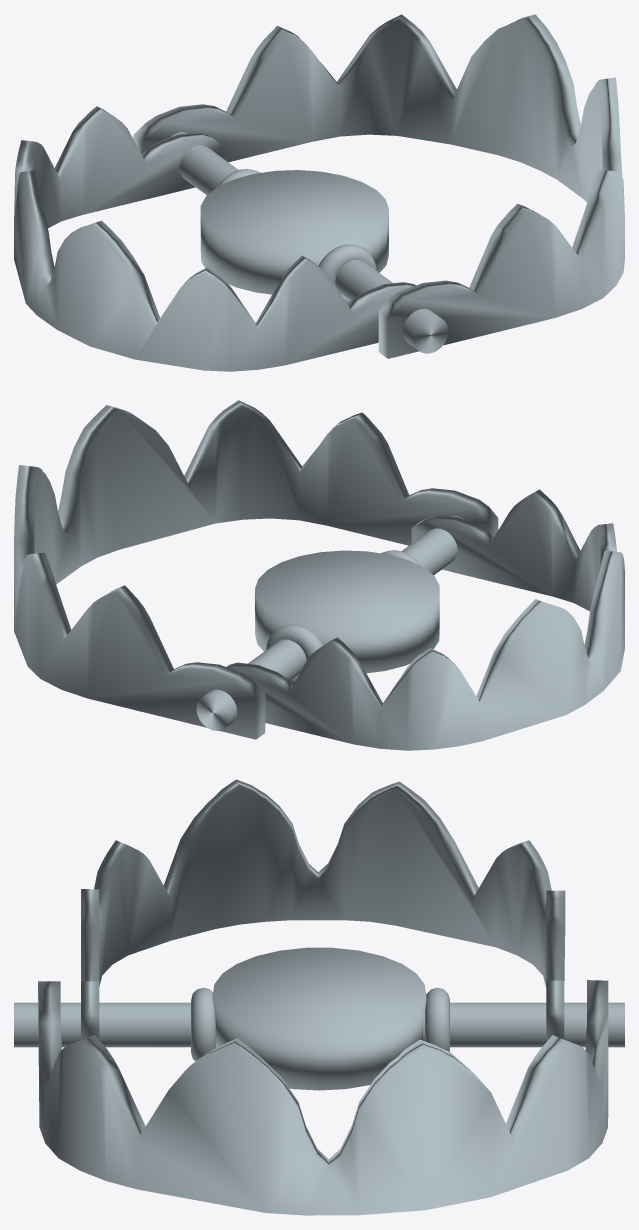
Rendered from WolfTrap.glb.
The picture shows the model from 3 angles, top to bottom: view 1: azimuth 30°, elevation 25°; view 2: azimuth 150°, elevation 25°; view 3: azimuth 270°, elevation 25°; orthographic projection. The views are drawn at different scales.
Visible parts, largest first — view 1: trap_wolf_part1, trap_wolf_part2, trap_wolf_part3; view 2: trap_wolf_part1, trap_wolf_part2, trap_wolf_part3; view 3: trap_wolf_part1, trap_wolf_part2, trap_wolf_part3.
Boxes of the visible parts, x1=… form: trap_wolf_part1: x1=133, y1=14, x2=624, y2=358; trap_wolf_part2: x1=14, y1=106, x2=415, y2=371; trap_wolf_part3: x1=171, y1=132, x2=448, y2=353; trap_wolf_part1: x1=14, y1=400, x2=498, y2=739; trap_wolf_part2: x1=226, y1=489, x2=624, y2=750; trap_wolf_part3: x1=196, y1=516, x2=462, y2=730; trap_wolf_part1: x1=38, y1=980, x2=608, y2=1215; trap_wolf_part2: x1=81, y1=779, x2=565, y2=1041; trap_wolf_part3: x1=14, y1=947, x2=624, y2=1090.
Size of the model in its own units: 2.5 by 0.6637 by 2.13.
